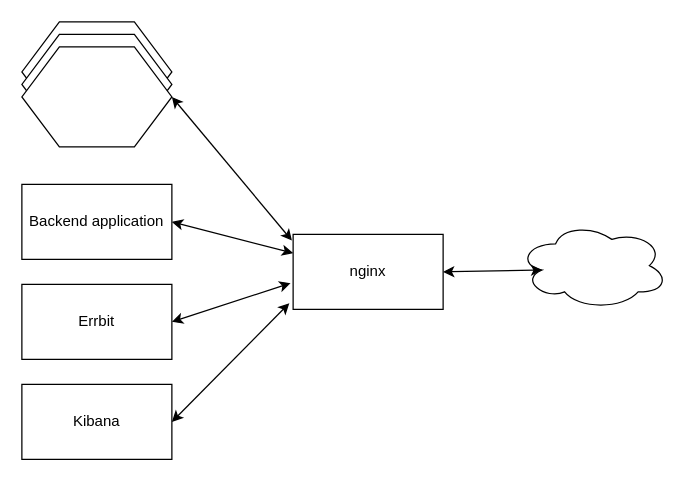
This 690x481 diagram has some shape labels left out. The shapes that lost their labels are listed below. From the top down, each one's box as (x1, y1, x2, y2) in pixels, then its label:
(21, 46, 172, 147): Frontend applications
(517, 221, 668, 309): HTTP Requests
